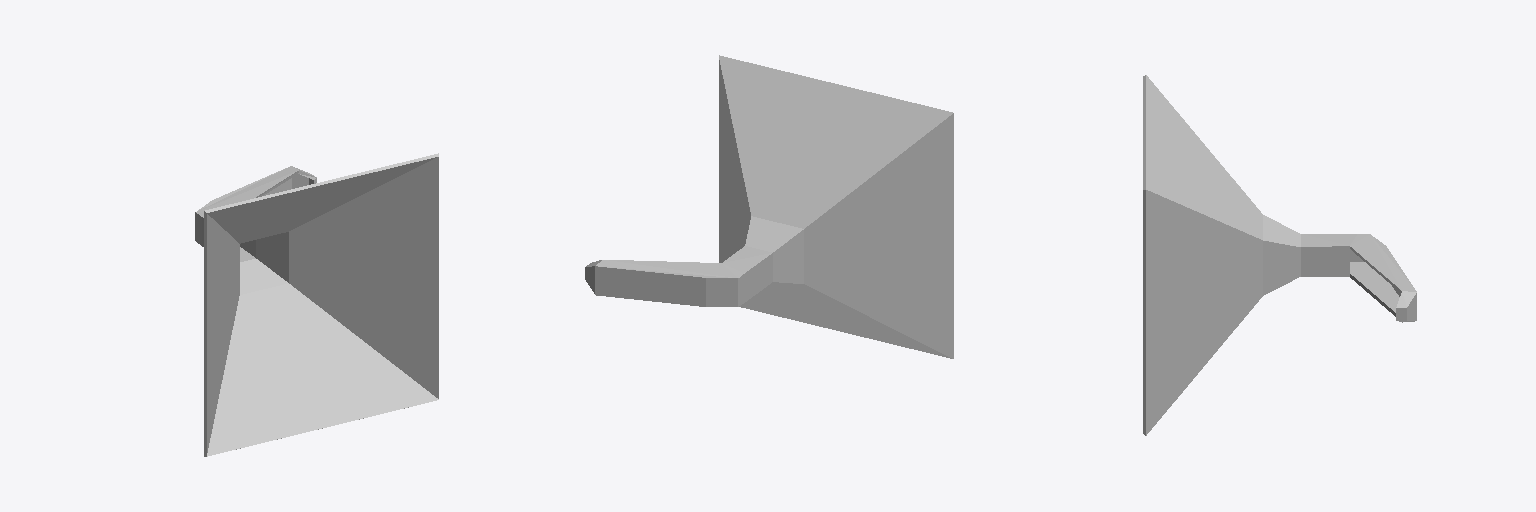
Rendered from ramp.obj.
3 views of the same model, side by side, from view 1: azimuth 30°, elevation 25°; view 2: azimuth 150°, elevation 25°; view 3: azimuth 270°, elevation 25° (orthographic).
Parts seen in each view (by area): view 1: Plane; view 2: Plane; view 3: Plane.
Boxes of the visible parts, x1,y1,x2,y2 form: Plane: [195, 153, 438, 456]; Plane: [585, 55, 953, 358]; Plane: [1143, 75, 1416, 435].
Bounding box in the file's own units: 0.2363 × 0.2334 × 0.2352.